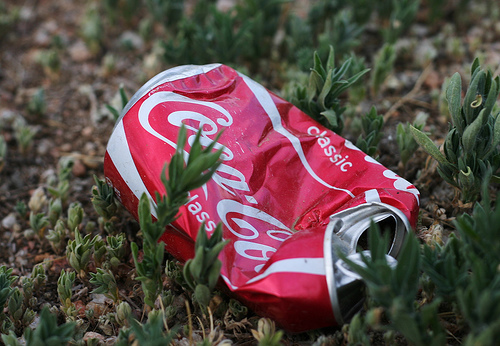litter: (101, 62, 422, 332)
